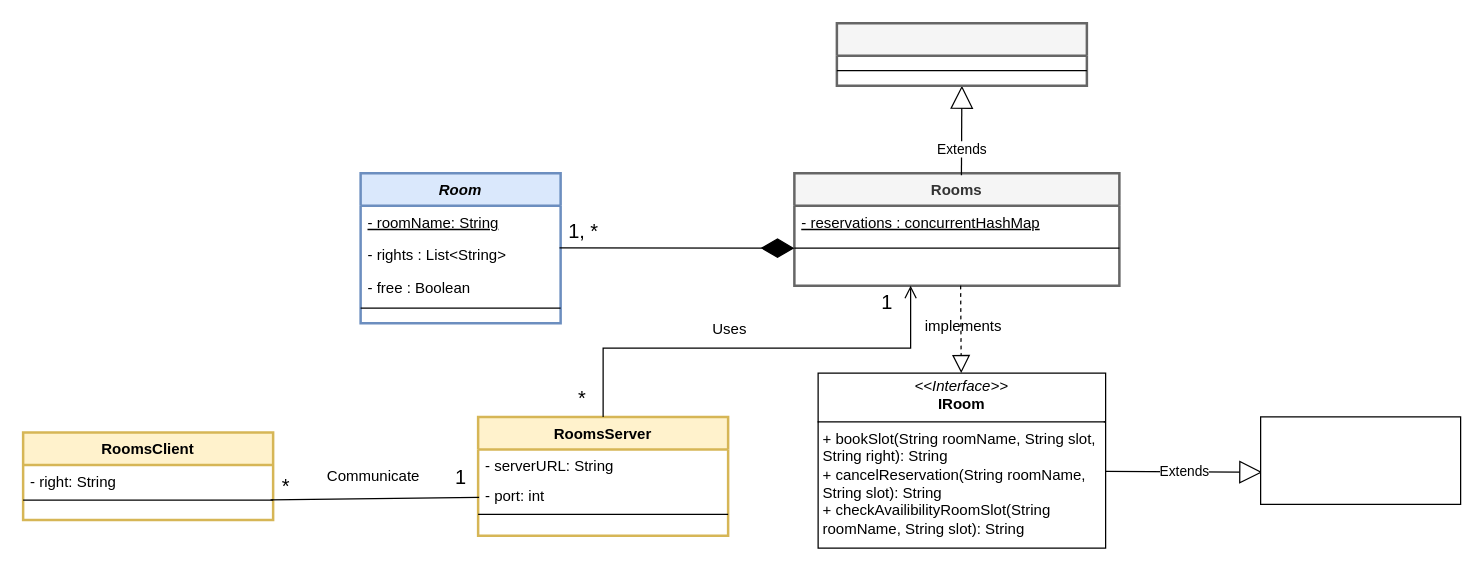
Some shapes in this 1483 by 570 pixel diagram are drawn without their labels. Here are the shapes that lost their labels. From the top down, the centre of each, then its label:
At [961,53]: "UnicastRemoteObject".
At [1360,460]: "<<Interface>> Remote".
